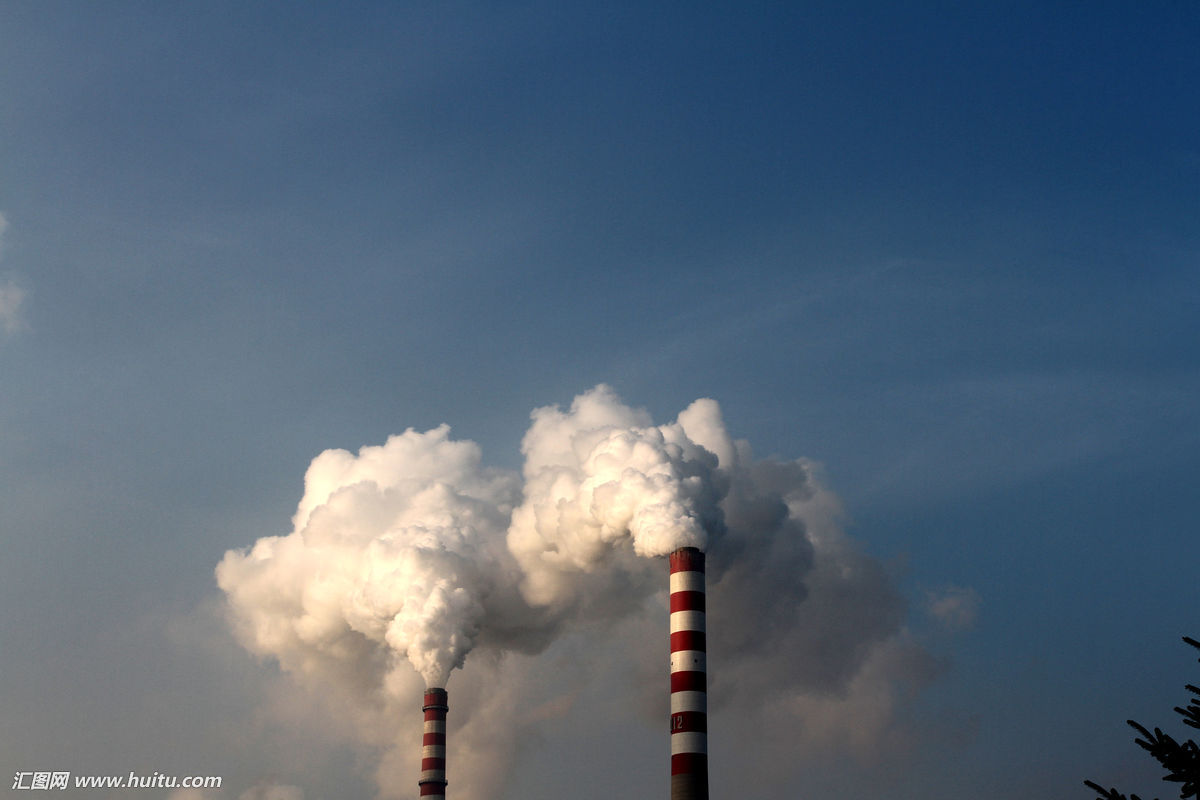dust: (522, 371, 790, 569), (310, 494, 505, 696)
